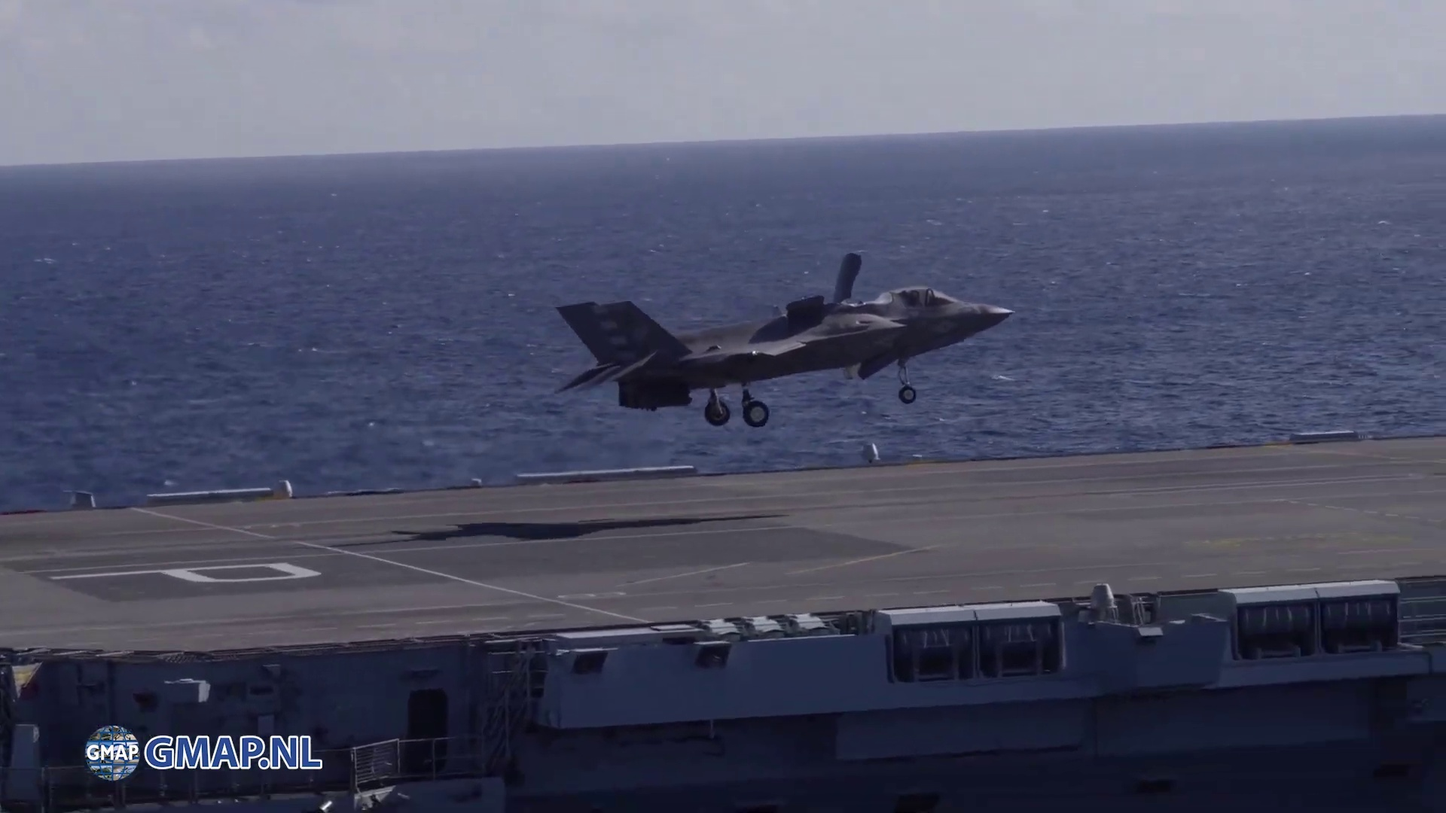F35: (541, 236, 1019, 435)
